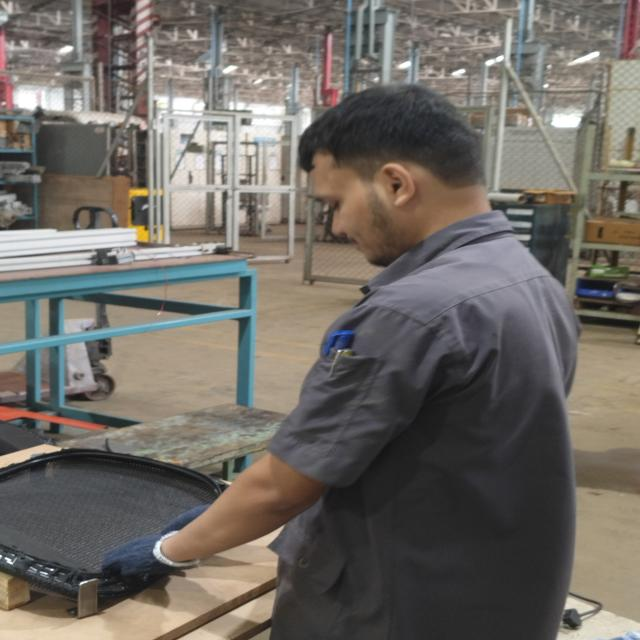Gloves-Detection: (101, 545, 185, 583)
